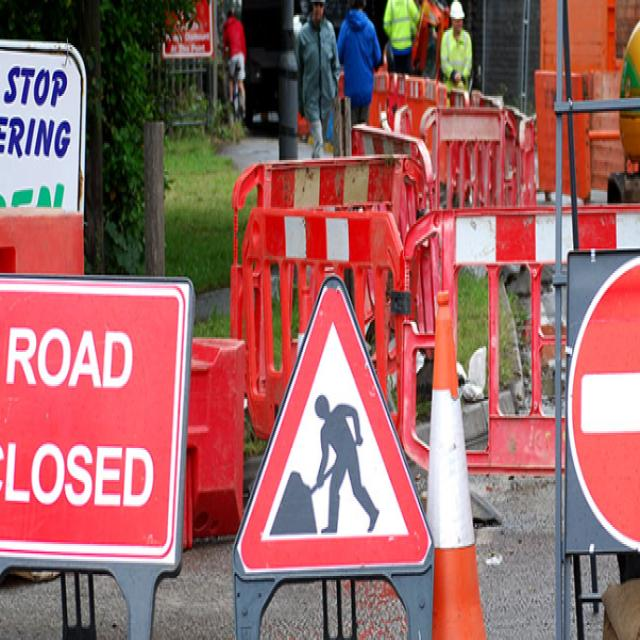WORKERS: (235, 275, 431, 576)
